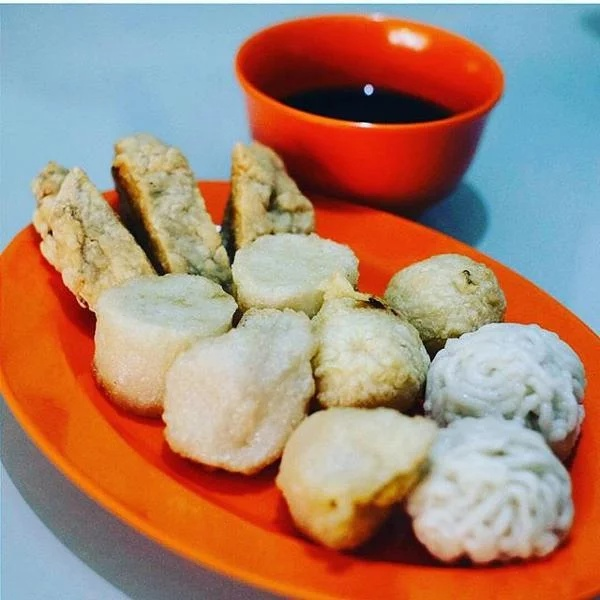pempek: (31, 138, 587, 560)
